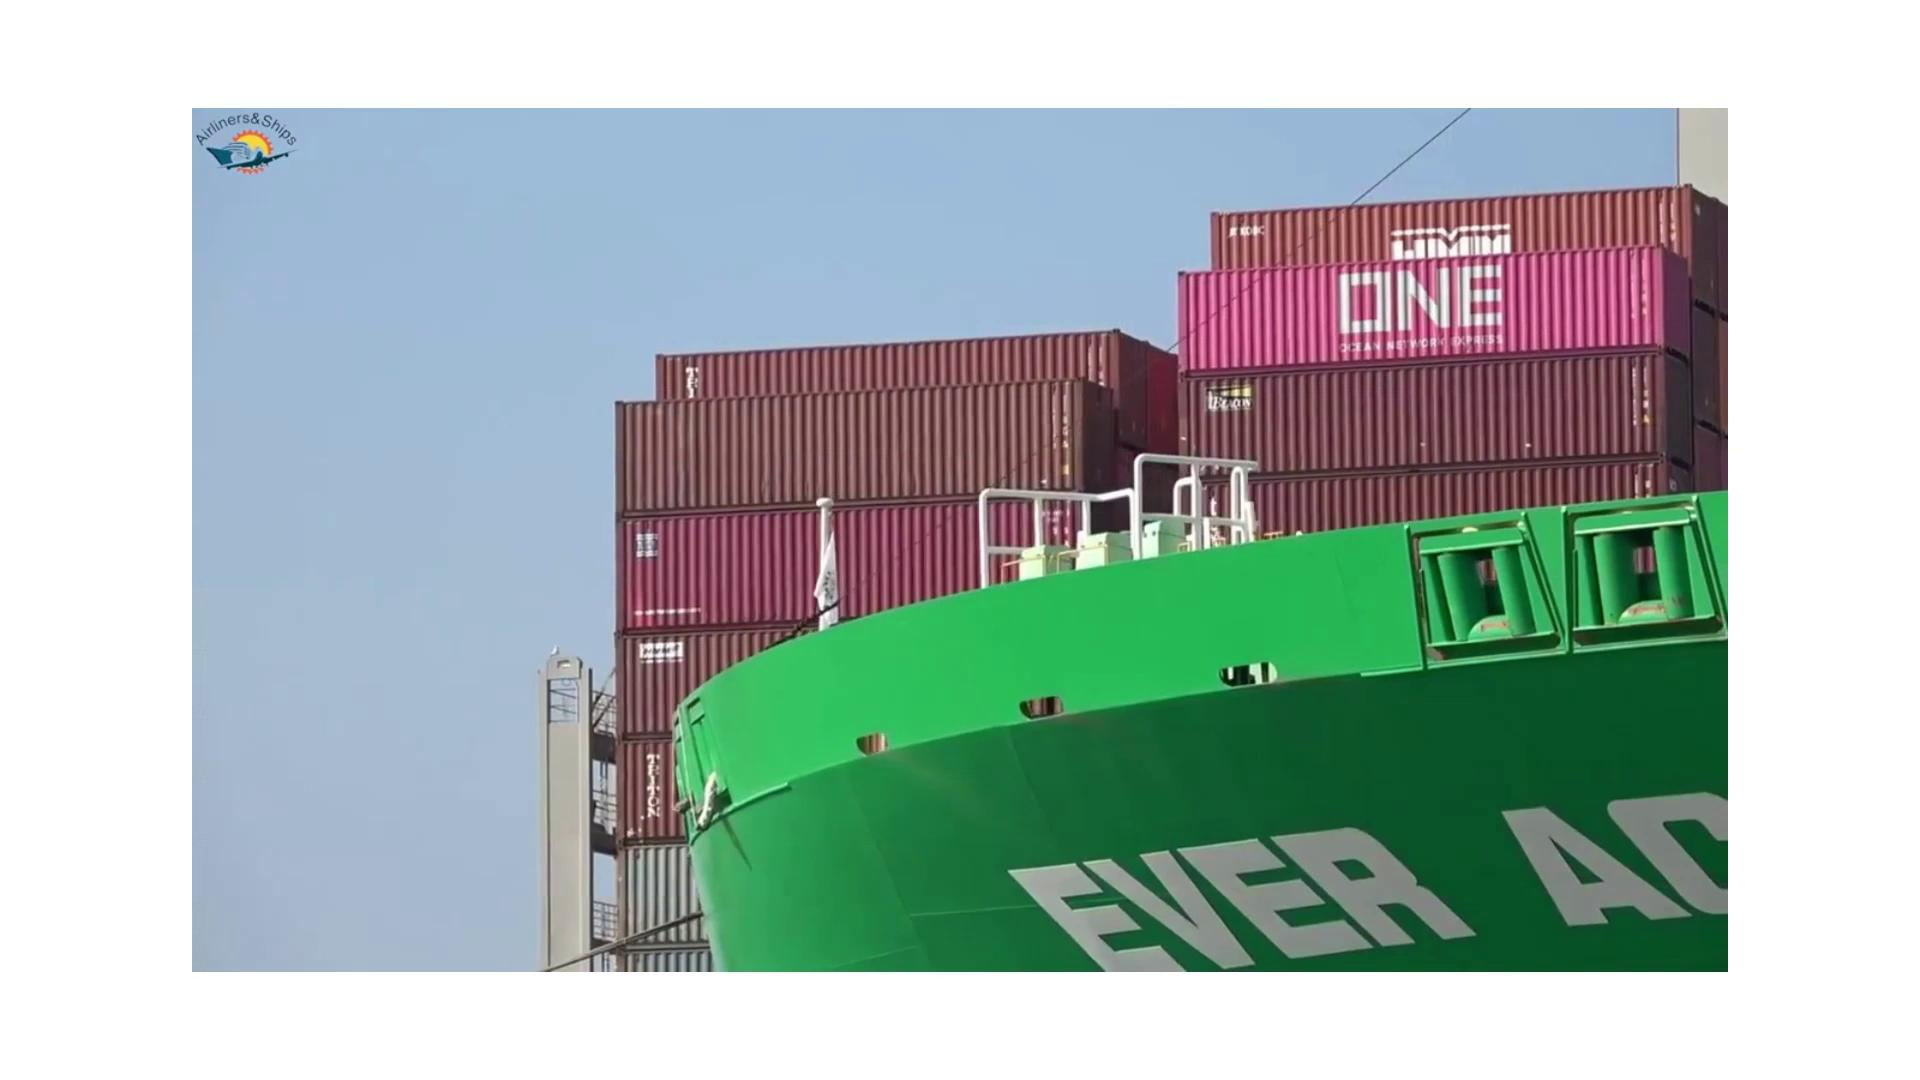OCR: (993, 773, 1720, 968)
